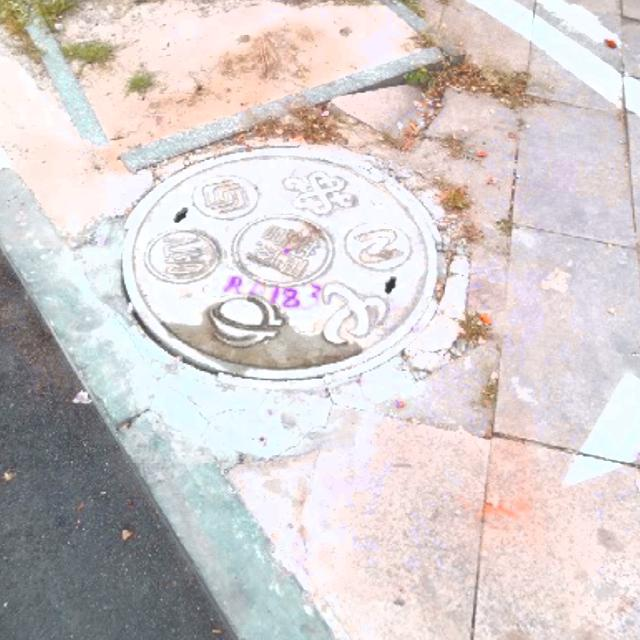good: (122, 150, 449, 384)
